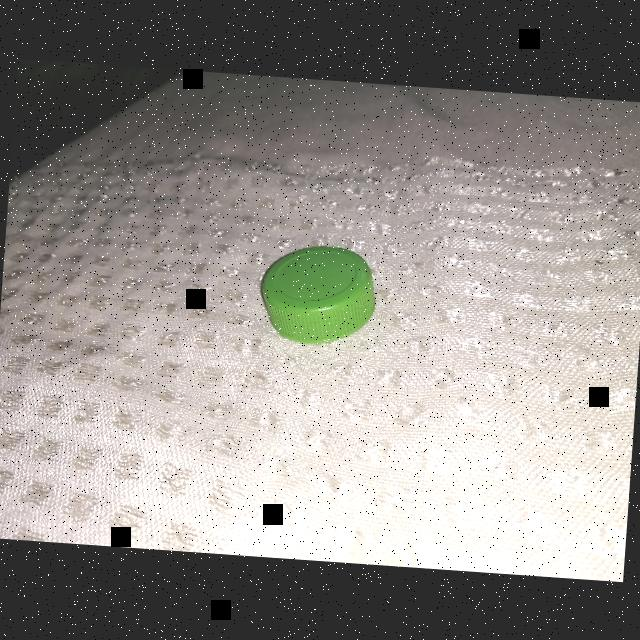plastic_bottle_cap: (258, 240, 380, 348)
